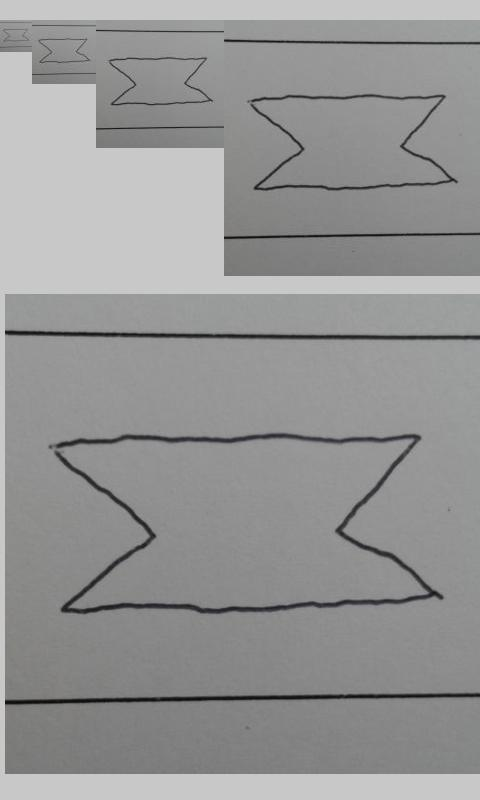edit_text: (49, 432, 435, 616), (248, 94, 454, 191), (108, 56, 212, 106), (38, 38, 90, 63), (2, 28, 29, 42)
